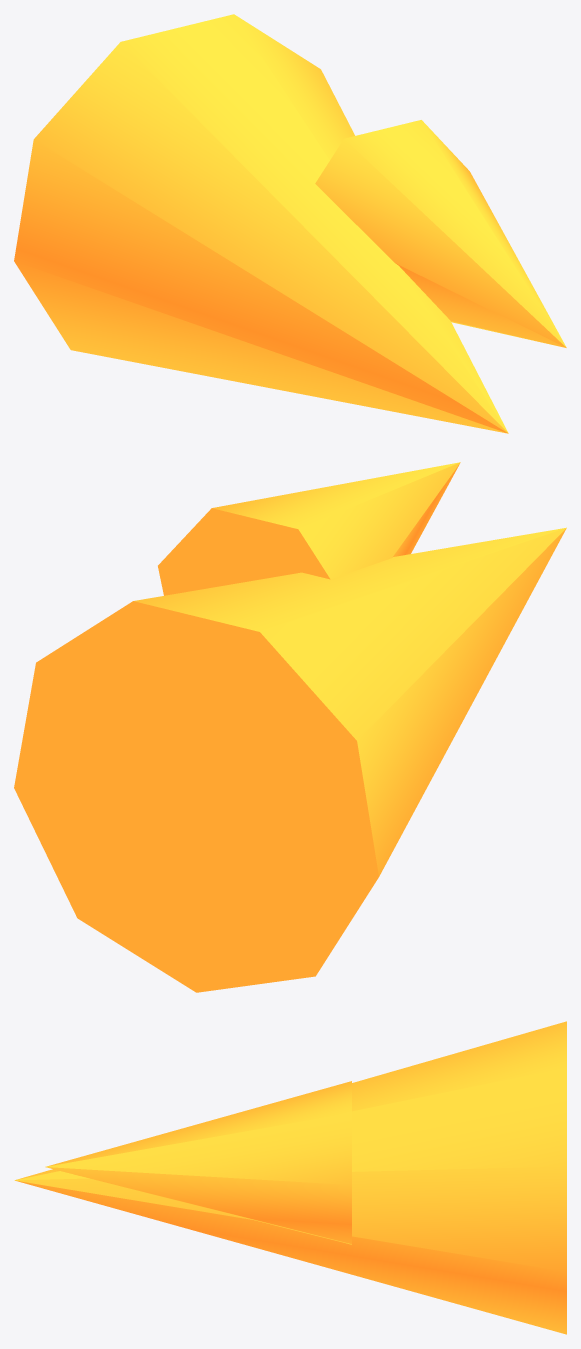
The model's file is flame.glb.
3 views of the same model, one above another, from view 1: azimuth 30°, elevation 25°; view 2: azimuth 150°, elevation 25°; view 3: azimuth 270°, elevation 25° (orthographic). The views are drawn at different scales.
Visible parts, largest first — view 1: Outer; view 2: Outer; view 3: Outer.
Part boxes in pixels (<box>): Outer: <box>14,14,566,433</box>; Outer: <box>14,462,566,992</box>; Outer: <box>14,1021,566,1334</box>.
Bounding box in the file's own units: 0.5125 × 0.5043 × 0.9.
